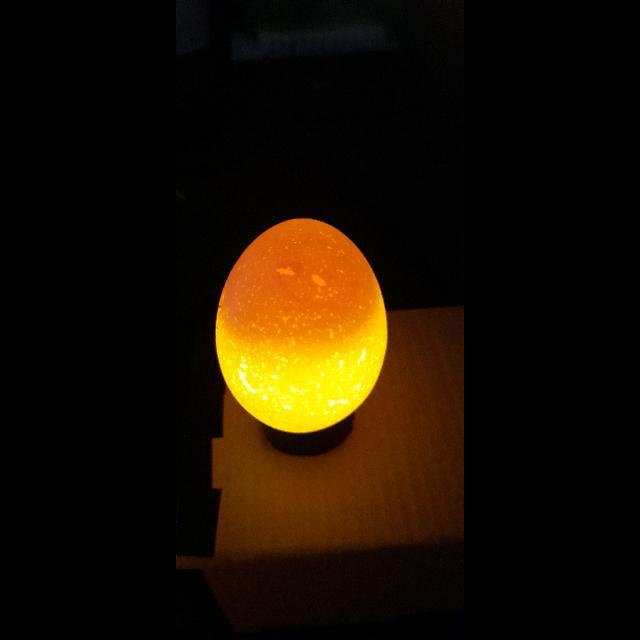Fertile: (217, 202, 391, 438)
